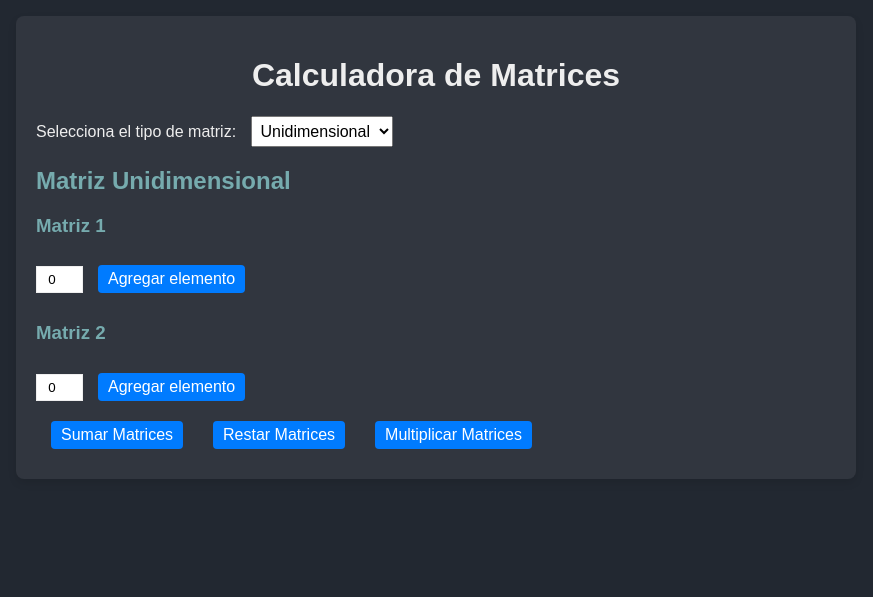
it: MatrixCalculator Component › should handle matrix addition for unidimensional matrices
The width and height of the screenshot is (873, 597).
Note: Cambiamos el tipo de matriz a unidimensional usando el select por su rol de combobox
Select "Unidimensional" in the dropdown at (322, 131), box [250, 116, 392, 147]
Note: Cambiamos los valores de las matrices
Replace the text in the number field below "Matriz 1" with "2" at (60, 280), box [36, 266, 83, 293]
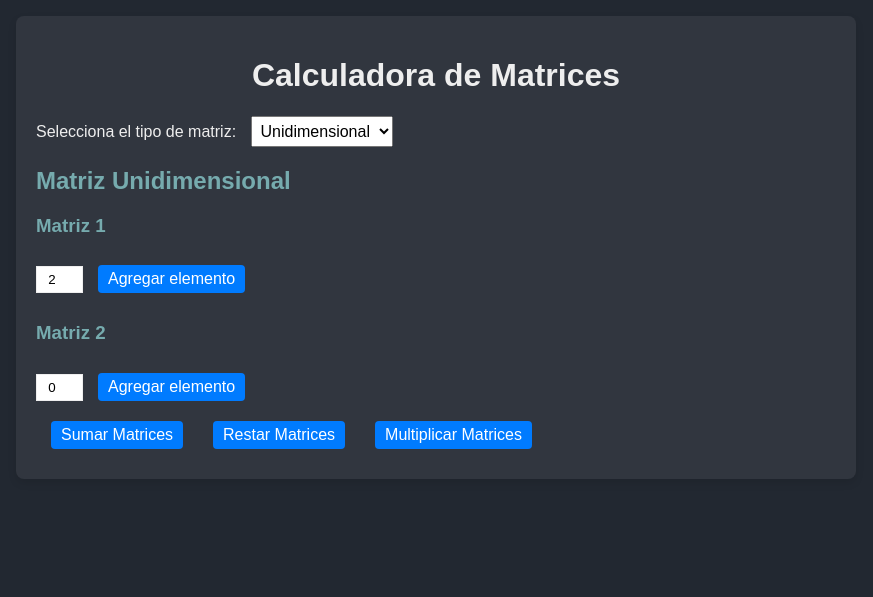
Replace the text in the number field below "Matriz 2" with "3" at (60, 387), box [36, 374, 83, 401]
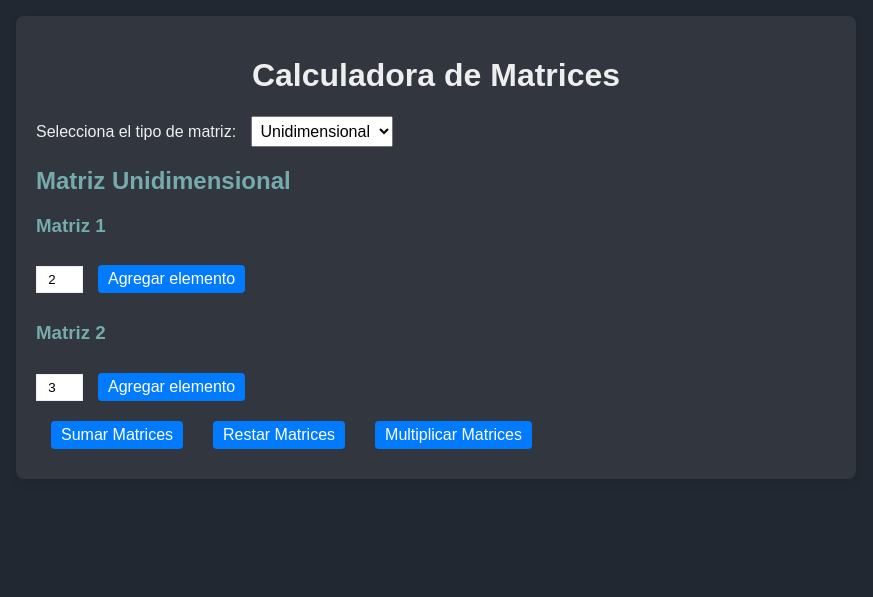
Note: Realizamos la operación de suma
Click the button "Sumar Matrices" at (117, 435), box [51, 421, 183, 449]
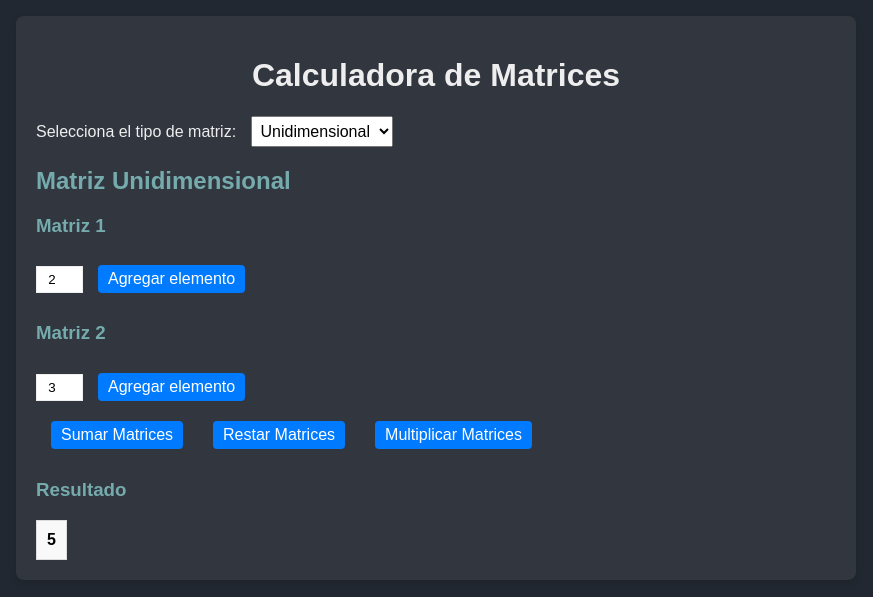
Check: the text "5" is shown, box [36, 520, 66, 559]
